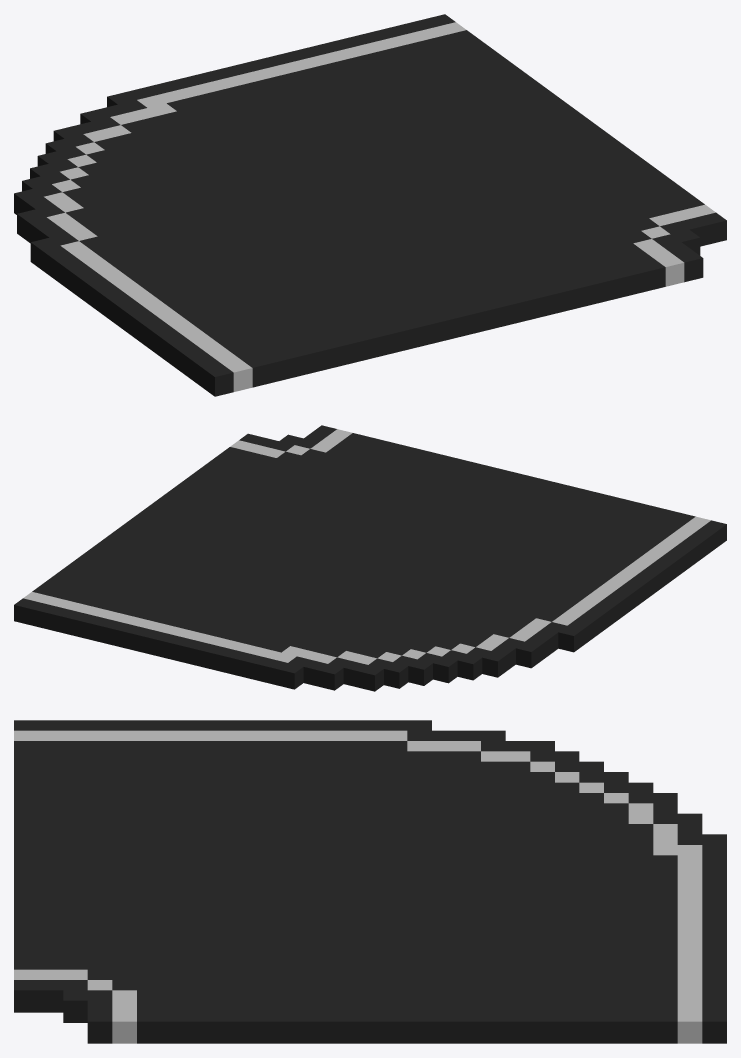
Rendered from road-rounded-curve-4.gltf.
The picture shows the model from 3 angles, top to bottom: view 1: azimuth 30°, elevation 25°; view 2: azimuth 150°, elevation 25°; view 3: azimuth 270°, elevation 25°; orthographic projection. The views are drawn at different scales.
Parts seen in each view (by area): view 1: road-rounded-curve-4; view 2: road-rounded-curve-4; view 3: road-rounded-curve-4.
Boxes of the visible parts, x1,y1,x2,y2 form: road-rounded-curve-4: (14,14,726,396); road-rounded-curve-4: (14,425,726,691); road-rounded-curve-4: (14,720,726,1043).
Bounding box in the file's own units: 2.9 × 0.1 × 2.9.
Materials: 1 (1 with a texture image).
